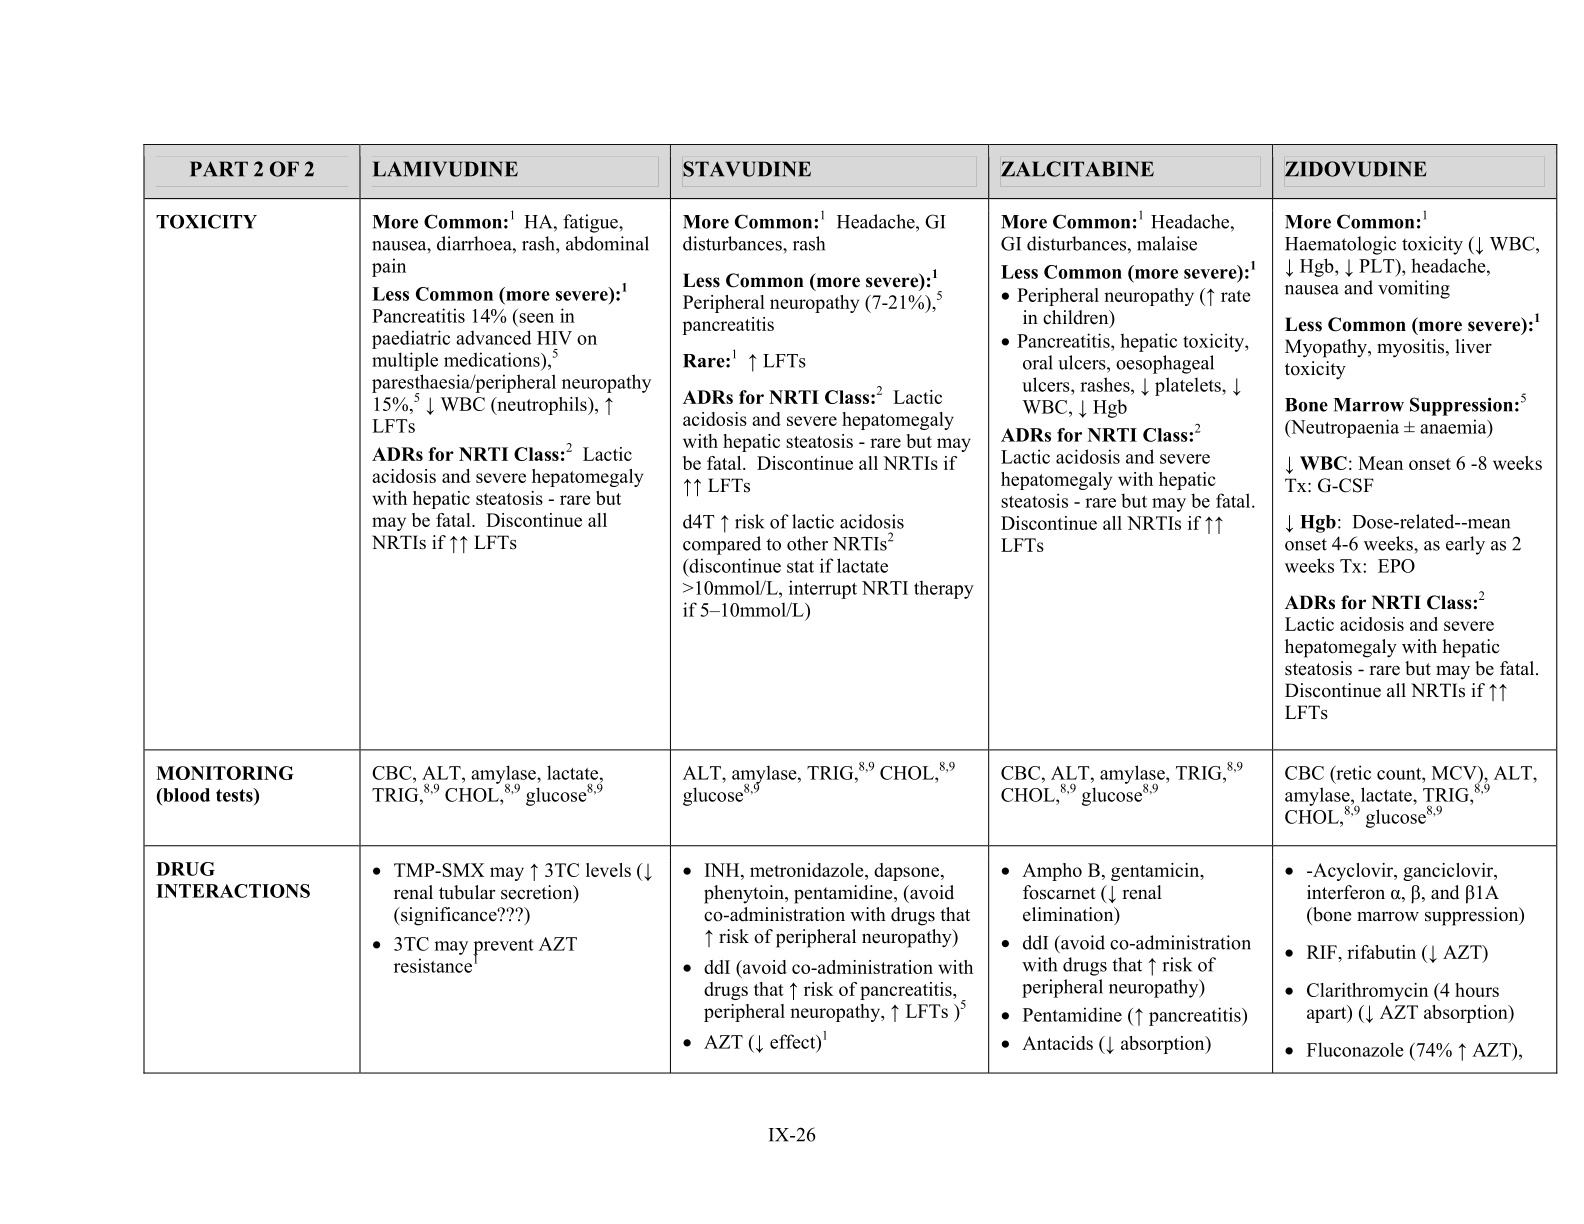full_lined: (140, 143, 1563, 1081)
